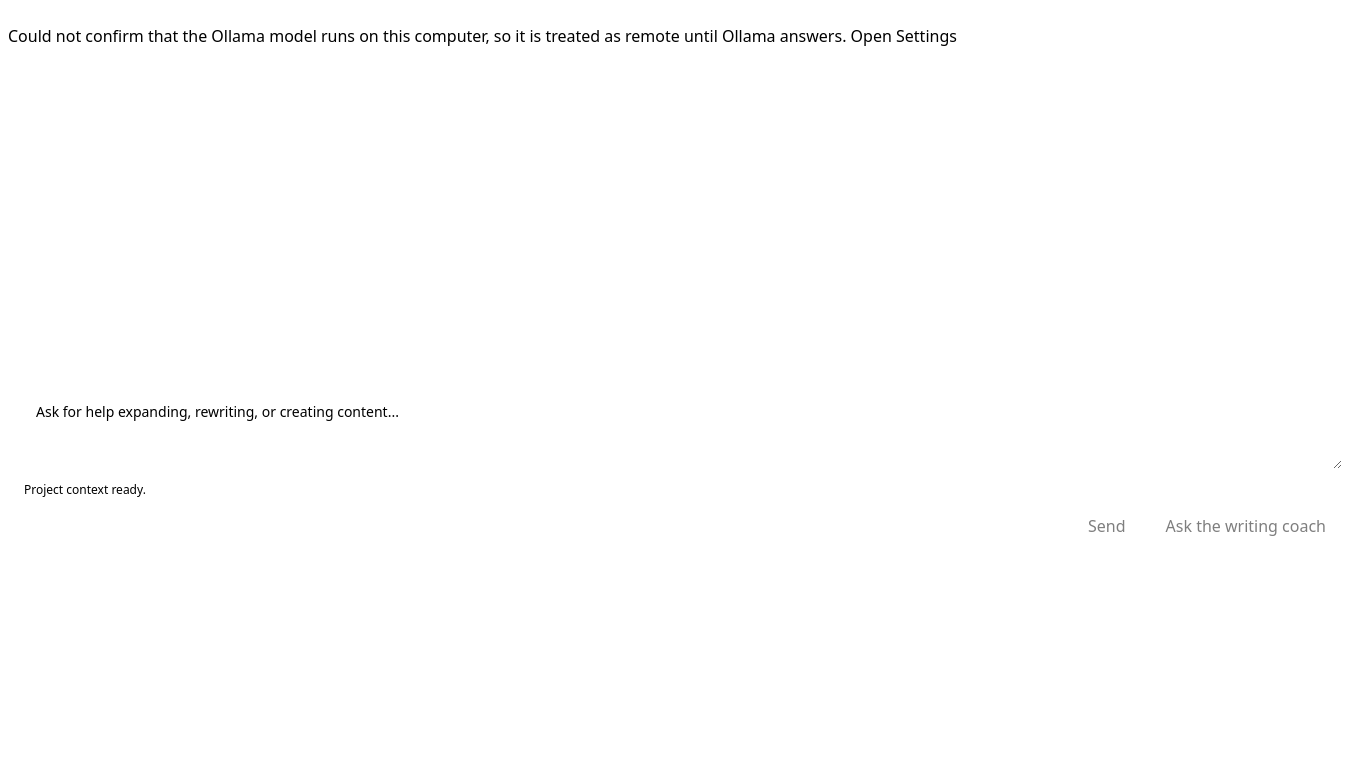
Test case: AIAssistant factual lookup integration › answers D-1 from accepted canon without invoking the provider
The width and height of the screenshot is (1366, 768).
Expected: the text "Project context ready." is shown, [24,481,146,498]
Type "What did Sera do before she became a delver?" into the text box at {"x": 683, "y": 429}, box [24,389,1342,469]
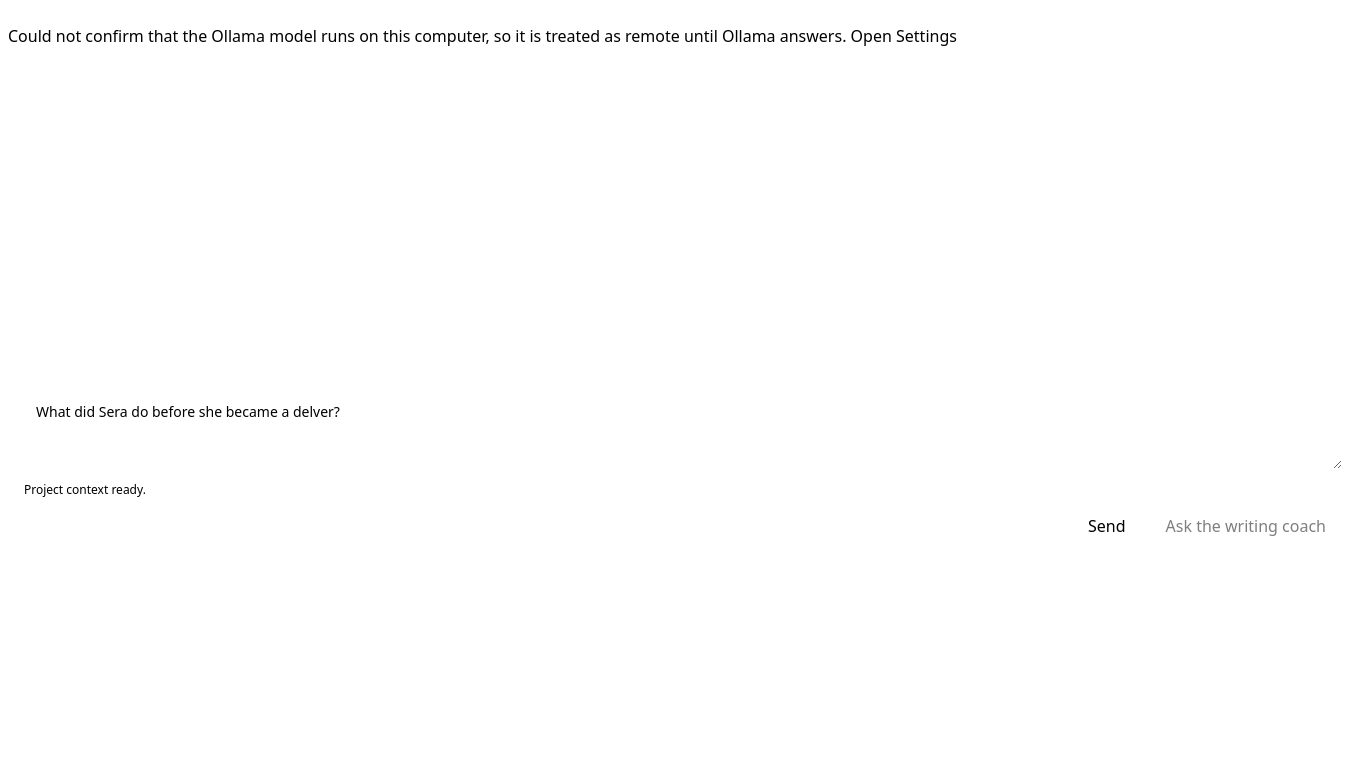
Click the button "Send" at {"x": 1107, "y": 526}, box [1072,507,1142,545]
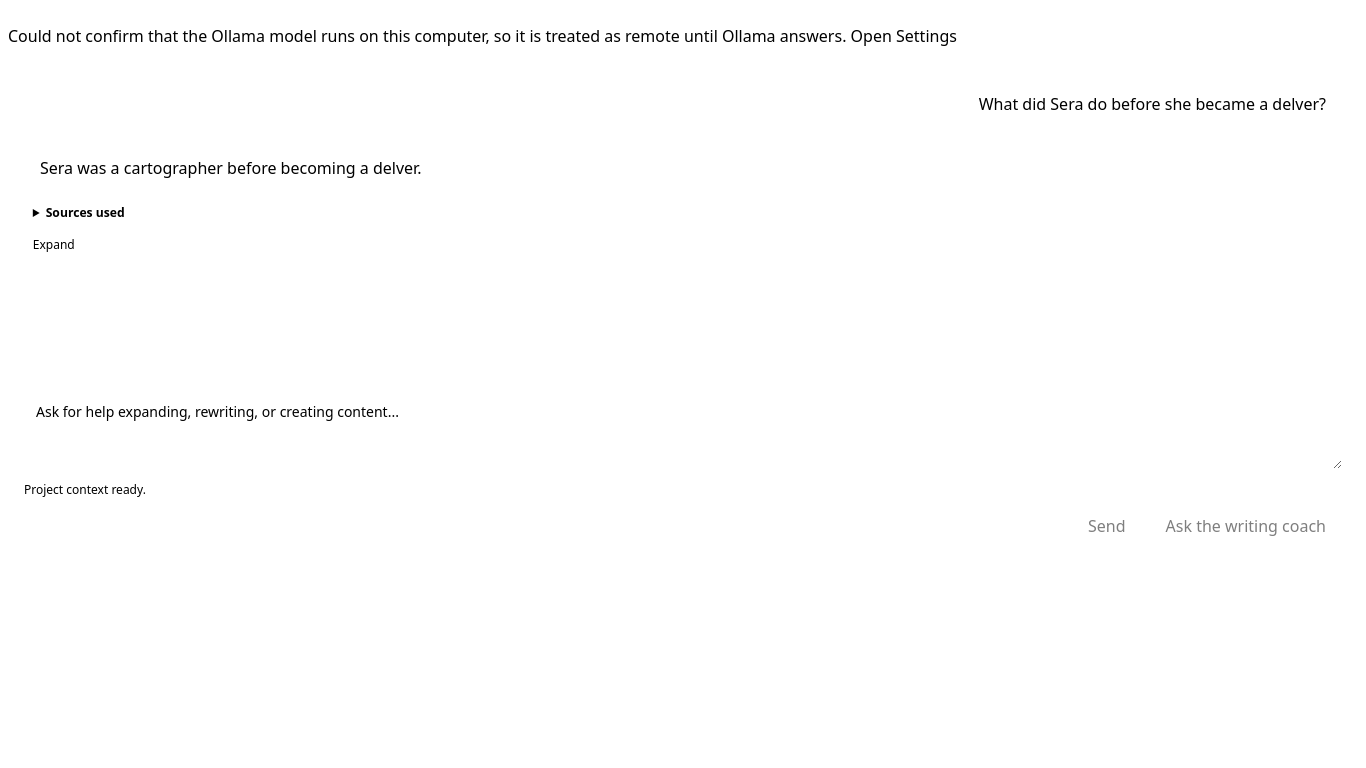
Expected: the text "Sera was a cartographer before becoming a delver." is shown, [40,157,421,179]
Click the heading "Sources used" at {"x": 85, "y": 212}, box [46,204,125,221]
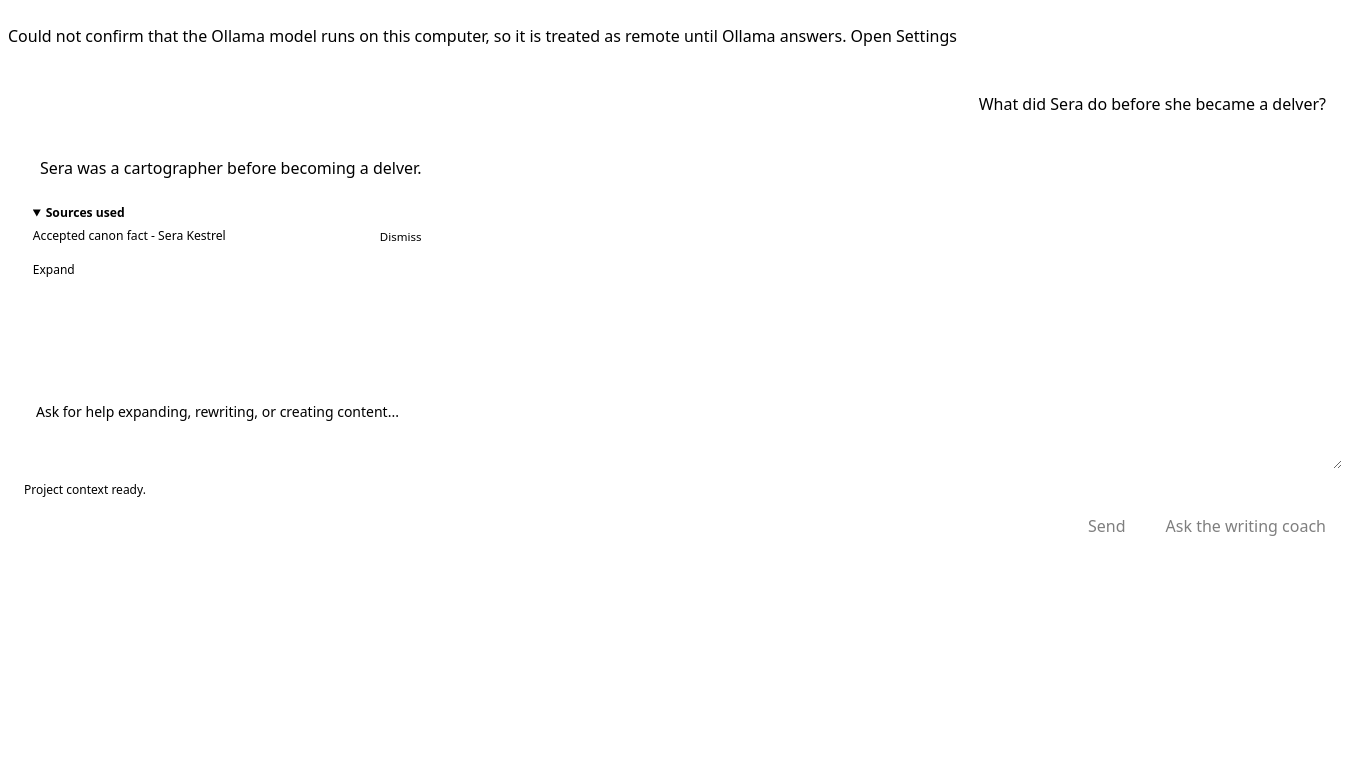
Expected: the text "Accepted canon fact - Sera Kestrel" is shown, [33,228,226,244]
